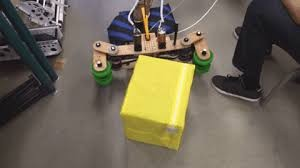cube: (120, 55, 196, 150)
